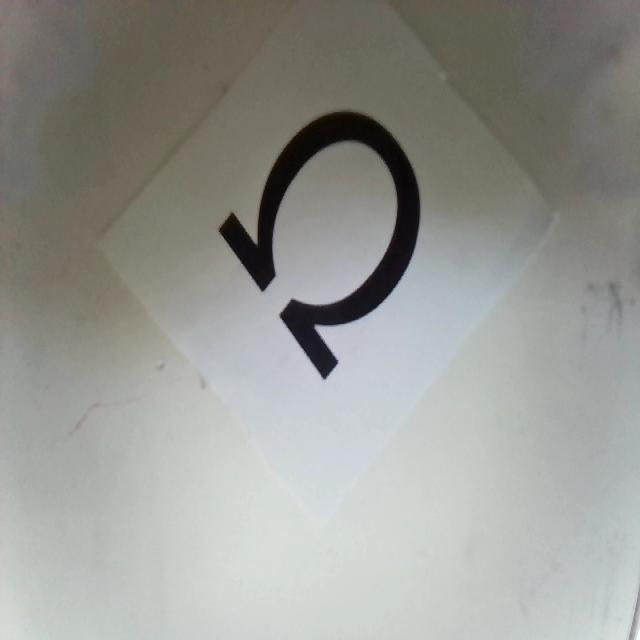OM: (215, 109, 424, 380)
